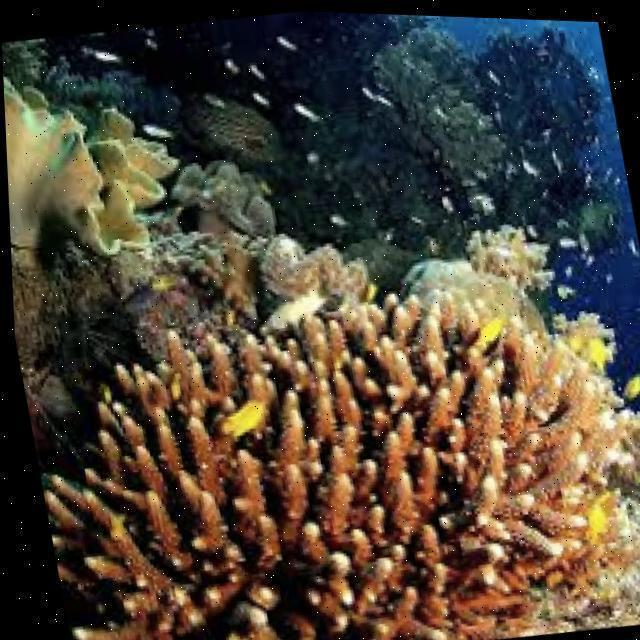Healthy Coral: (25, 228, 630, 640), (2, 63, 187, 268)
